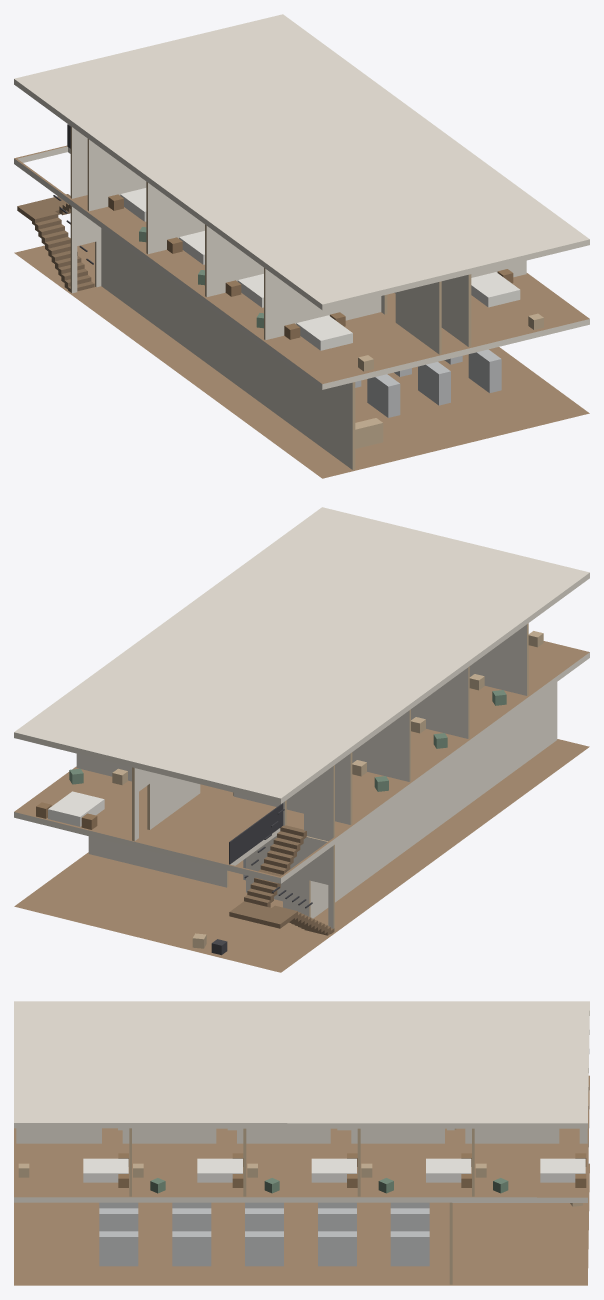
File: interior.glb
The picture shows the model from 3 angles, top to bottom: view 1: azimuth 30°, elevation 25°; view 2: azimuth 150°, elevation 25°; view 3: azimuth 270°, elevation 25°; orthographic projection. The views are drawn at different scales.
Visible parts, largest first — view 1: slabs, partitions, coarse-s1, coarse-s0, stair; view 2: slabs, partitions, stair, coarse-s1; view 3: slabs, coarse-s0, partitions, coarse-s1.
Part boxes in pixels (x1,y1,x2,y2): slabs: (14,14,589,478); partitions: (70,126,526,469); coarse-s1: (108,188,543,371); coarse-s0: (355,349,501,448); stair: (17,124,94,292); slabs: (14,507,589,972); partitions: (76,623,557,931); stair: (229,803,334,935); coarse-s1: (36,631,543,829); slabs: (14,1001,589,1285); coarse-s0: (99,1202,582,1266); partitions: (16,1128,587,1284); coarse-s1: (18,1153,586,1193).
Bounding box in the file's own units: 12.69 × 7.9 × 25.31.
